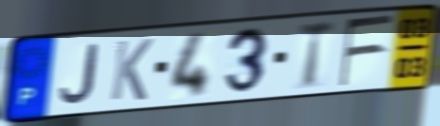3: (223, 25, 270, 98)
4: (167, 29, 215, 99)
F: (337, 12, 397, 89)
J: (57, 42, 100, 107)
K: (108, 37, 156, 103)
T: (296, 18, 339, 91)
